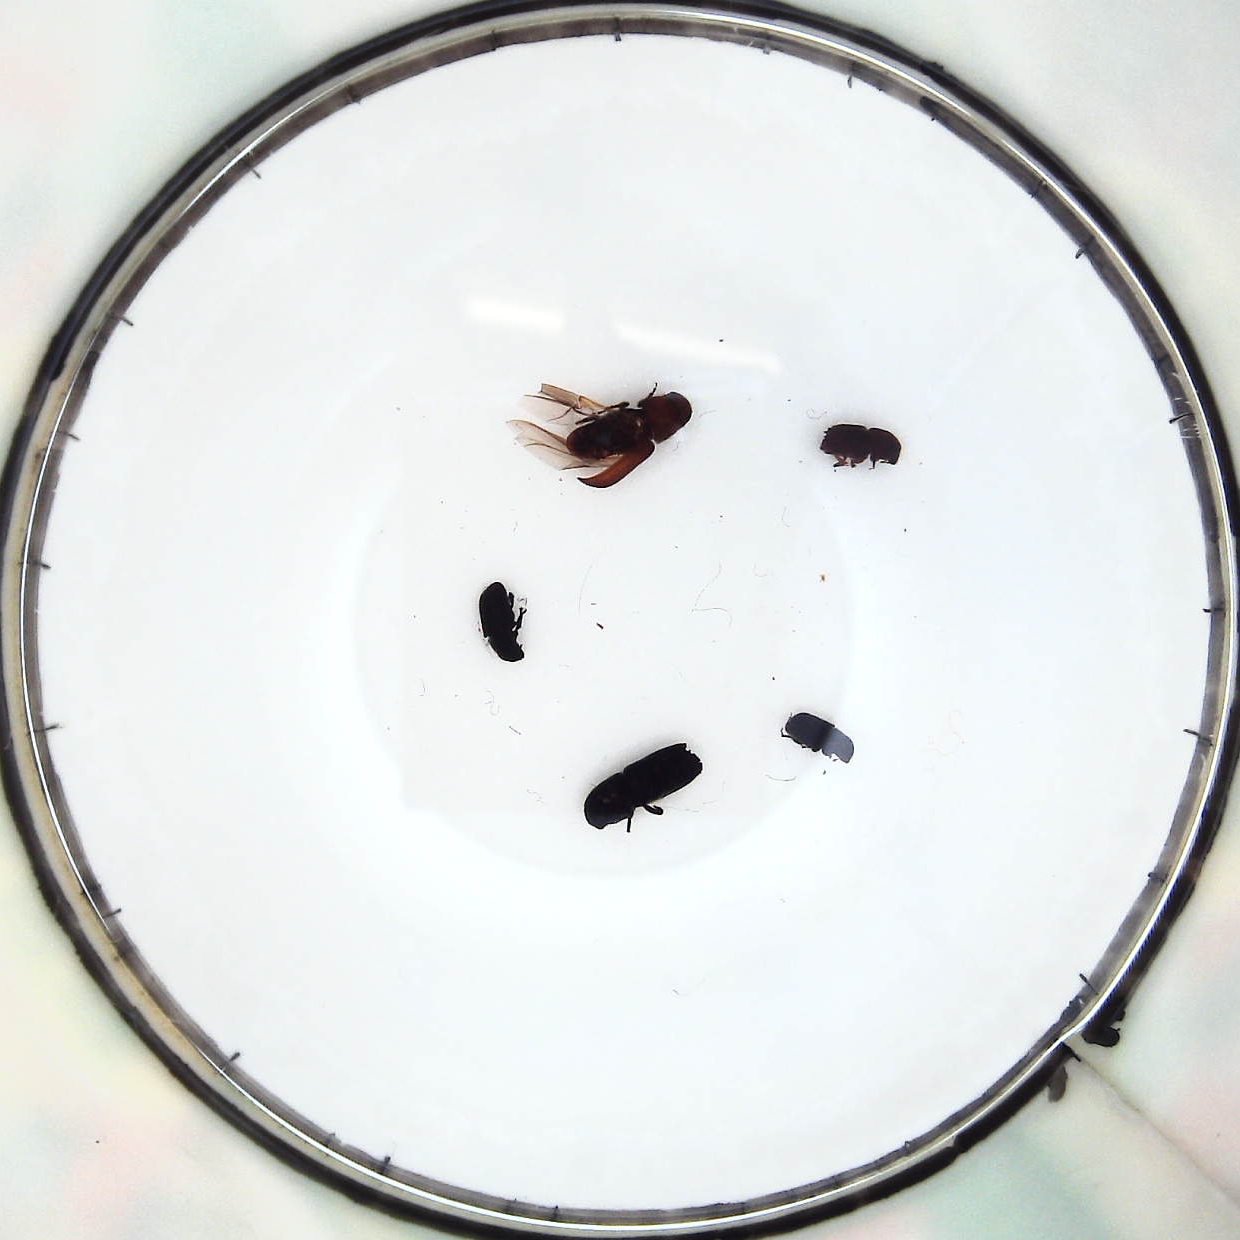Boerner: (580, 744, 705, 824)
Leconte: (529, 385, 692, 483)
Linnaeus: (829, 419, 900, 474)
armandi: (475, 580, 526, 668), (784, 709, 853, 770)
